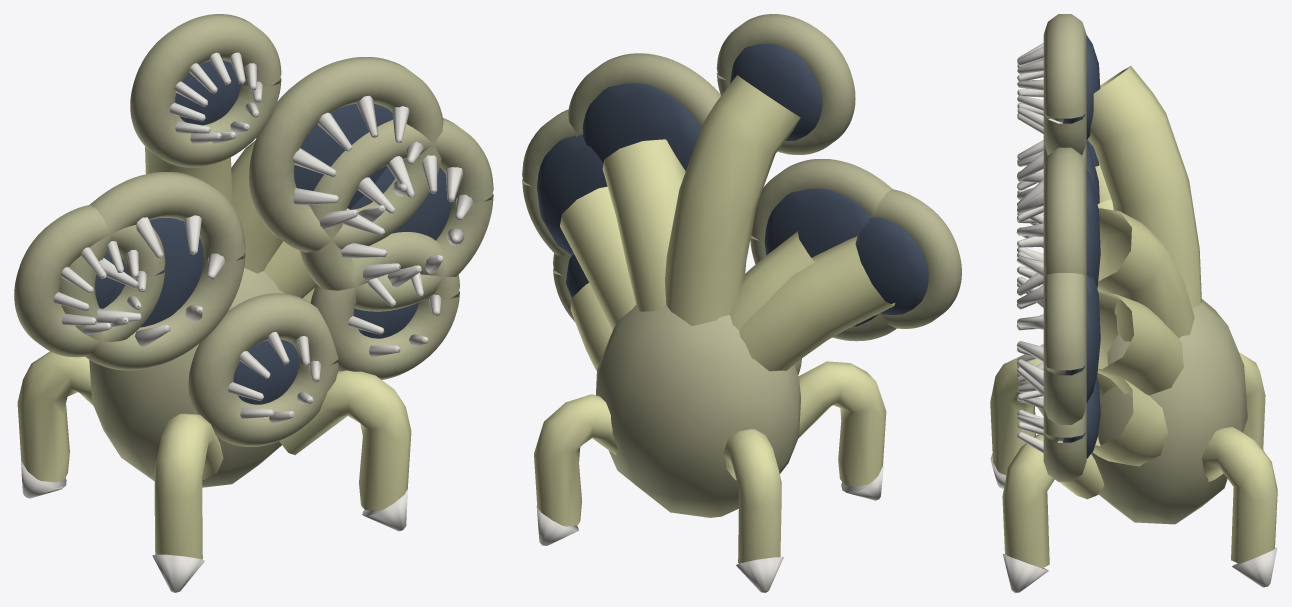
The model's file is bio_manymouth_05_far.glb.
3 views of the same model, side by side, from view 1: azimuth 30°, elevation 25°; view 2: azimuth 150°, elevation 25°; view 3: azimuth 270°, elevation 25° (orthographic). The views are drawn at different scales.
Visible parts, largest first — view 1: Raised oral lip.003, Raised oral lip.001, Raised oral lip.002, Raised oral lip.006, Raised oral lip.005, Raised oral lip.004, Central branching knot, Raised oral lip, Crooked support.003, Crooked support.002, Crooked support.001, Inward tooth.040 (+18 smaller); view 2: Central branching knot, Bent oral neck.006, Bent oral neck.004, Bent oral neck.003, Raised oral lip.006, Crooked support.002, Crooked support, Recessed mouth cavity.003, Bent oral neck.005, Crooked support.001, Raised oral lip.001, Raised oral lip.004 (+13 smaller); view 3: Central branching knot, Bent oral neck.006, Bent oral neck.003, Crooked support, Raised oral lip.005, Crooked support.003, Raised oral lip.006, Bent oral neck.005, Raised oral lip.003, Bent oral neck, Crooked support.002, Raised oral lip (+15 smaller).
Part boxes in pixels (bbox=[...]): Raised oral lip.003: bbox=[249, 57, 443, 252]; Raised oral lip.001: bbox=[59, 172, 245, 370]; Raised oral lip.002: bbox=[188, 293, 338, 446]; Raised oral lip.006: bbox=[130, 14, 281, 167]; Raised oral lip.005: bbox=[300, 118, 493, 311]; Raised oral lip.004: bbox=[14, 205, 165, 357]; Central branching knot: bbox=[89, 268, 284, 487]; Raised oral lip: bbox=[310, 232, 459, 379]; Crooked support.003: bbox=[279, 370, 411, 510]; Crooked support.002: bbox=[154, 413, 223, 559]; Crooked support.001: bbox=[17, 351, 93, 482]; Inward tooth.040: bbox=[341, 155, 473, 287]; Central branching knot: bbox=[596, 304, 800, 517]; Bent oral neck.006: bbox=[665, 75, 800, 325]; Bent oral neck.004: bbox=[739, 236, 895, 371]; Bent oral neck.003: bbox=[602, 139, 685, 311]; Raised oral lip.006: bbox=[716, 14, 855, 154]; Crooked support.002: bbox=[798, 361, 886, 486]; Crooked support: bbox=[534, 394, 617, 526]; Recessed mouth cavity.003: bbox=[582, 83, 701, 171]; Bent oral neck.005: bbox=[560, 186, 635, 329]; Crooked support.001: bbox=[723, 429, 781, 563]; Raised oral lip.001: bbox=[750, 159, 896, 341]; Raised oral lip.004: bbox=[870, 189, 961, 328]; Central branching knot: bbox=[1091, 299, 1247, 524]; Bent oral neck.006: bbox=[1087, 66, 1201, 307]; Bent oral neck.003: bbox=[1097, 208, 1194, 341]; Crooked support: bbox=[1201, 427, 1277, 563]; Raised oral lip.005: bbox=[1043, 273, 1086, 424]; Crooked support.003: bbox=[1002, 434, 1104, 567]; Raised oral lip.006: bbox=[1043, 14, 1086, 155]; Bent oral neck.005: bbox=[1097, 292, 1183, 395]; Raised oral lip.003: bbox=[1043, 147, 1086, 277]; Bent oral neck: bbox=[1092, 368, 1168, 466]; Crooked support.002: bbox=[990, 354, 1043, 474]; Raised oral lip: bbox=[1043, 407, 1086, 481].
Bounding box in the file's own units: 2.13 × 2.3 × 1.21.
